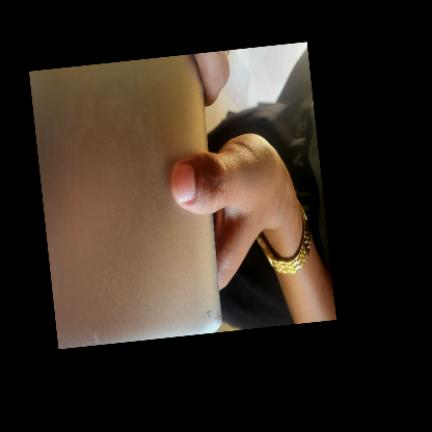Nail: (172, 165, 194, 202)
